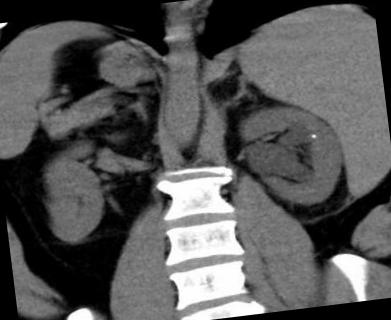Tas_Var: (310, 132, 318, 140)
